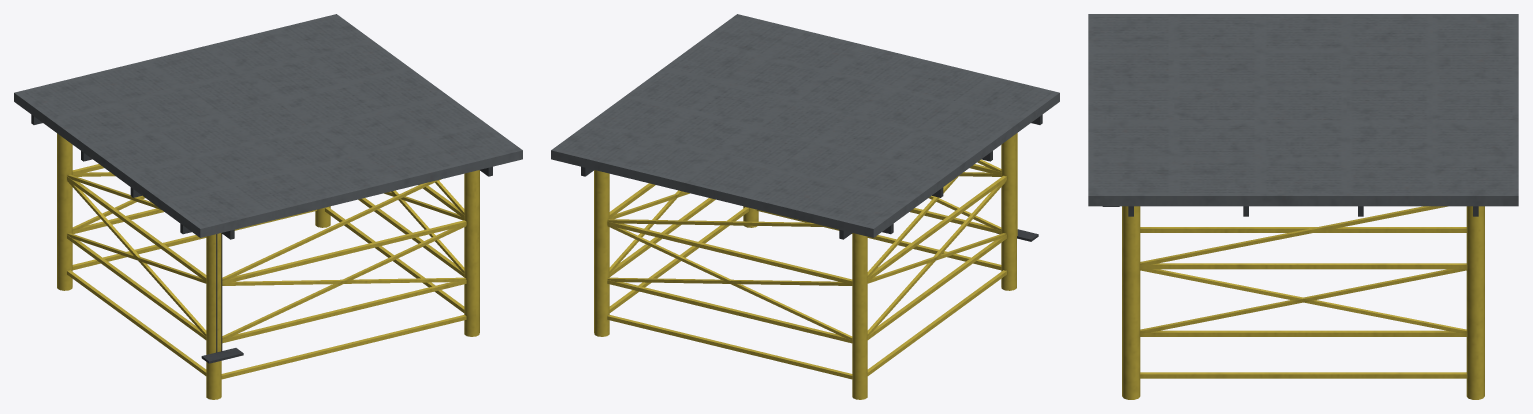
Rendered from store-deck.fbx.
3 renders of one model, left to right at view 1: azimuth 30°, elevation 25°; view 2: azimuth 150°, elevation 25°; view 3: azimuth 270°, elevation 25°, orthographic. The views are drawn at different scales.
Visible parts, largest first — view 1: store-deck; view 2: store-deck; view 3: store-deck.
Boxes of the visible parts, x1=… form: store-deck: x1=14, y1=14, x2=522, y2=399; store-deck: x1=551, y1=14, x2=1059, y2=399; store-deck: x1=1088, y1=14, x2=1518, y2=399.
Size of the model in its own units: 150 by 84 by 150.
1 material, 1 textured.
